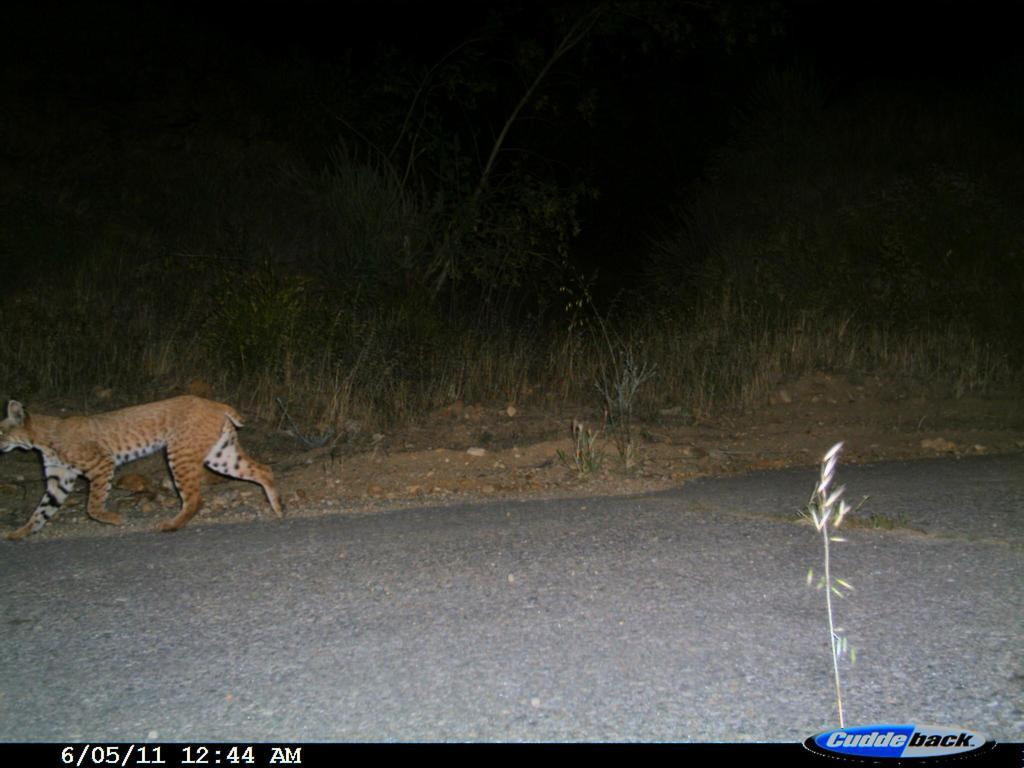bobcat: (4, 378, 305, 546)
